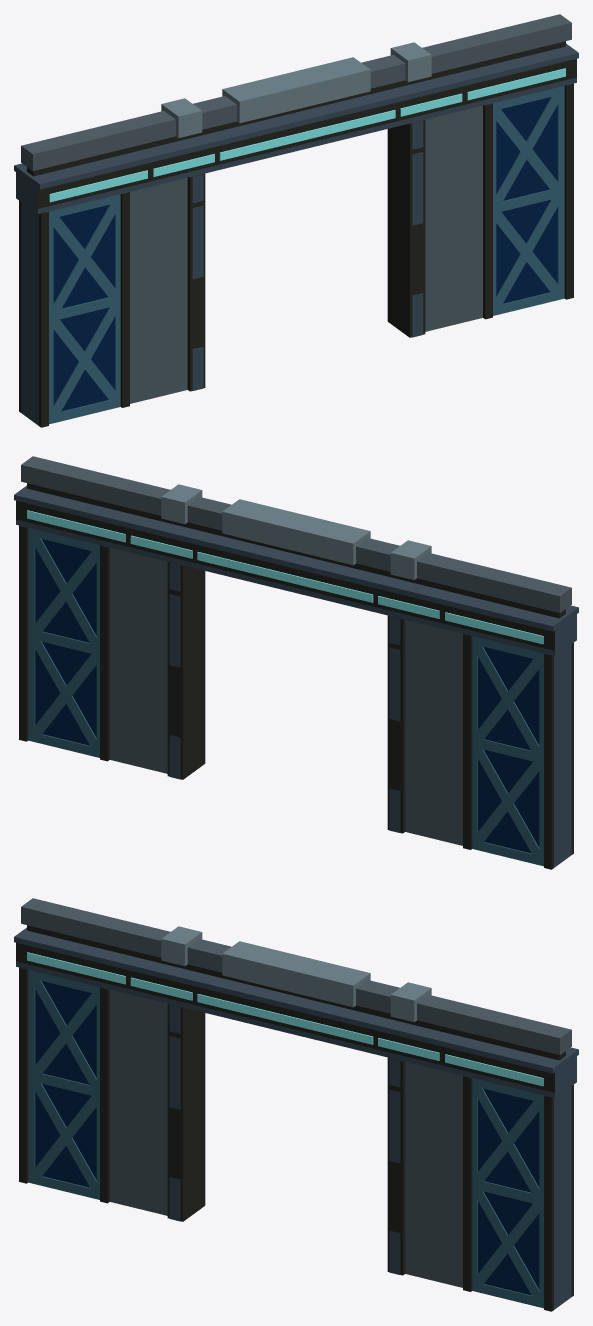
Rendered from congmap1-4.fbx.
3 renders of one model, top to bottom at view 1: azimuth 30°, elevation 25°; view 2: azimuth 150°, elevation 25°; view 3: azimuth 330°, elevation 25°, orthographic.
Parts seen in each view (by area): view 1: Cube.005; view 2: Cube.005; view 3: Cube.005.
Boxes of the visible parts, box(x1,y1,x2,y2) form: Cube.005: box(14, 14, 578, 427); Cube.005: box(14, 456, 578, 869); Cube.005: box(14, 898, 578, 1311).
Bounding box in the file's own units: 10.09 × 4.92 × 0.8406.
